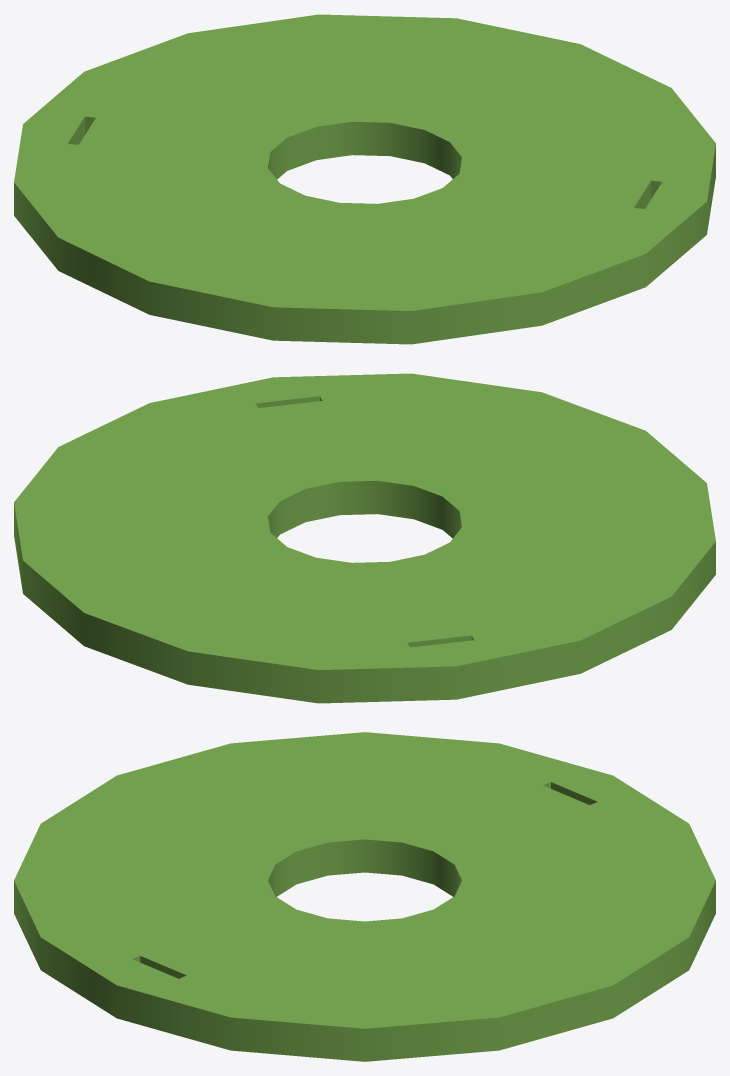
3 views of the same model, one above another, from view 1: azimuth 30°, elevation 25°; view 2: azimuth 150°, elevation 25°; view 3: azimuth 270°, elevation 25° (orthographic).
Parts seen in each view (by area): view 1: mesh3191, mesh3201, mesh3190; view 2: mesh3191, mesh3201, mesh3190; view 3: mesh3191, mesh3201, mesh3190.
Boxes of the visible parts, left/top/right/bottom form: mesh3191: left=14, top=14, right=715, bottom=310; mesh3201: left=14, top=144, right=715, bottom=344; mesh3190: left=268, top=121, right=461, bottom=179; mesh3191: left=14, top=373, right=715, bottom=669; mesh3201: left=14, top=503, right=715, bottom=703; mesh3190: left=268, top=480, right=461, bottom=538; mesh3191: left=14, top=732, right=715, bottom=1028; mesh3201: left=14, top=881, right=715, bottom=1061; mesh3190: left=268, top=839, right=461, bottom=896.
Bounding box in the file's own units: 0.0308 × 0.0016 × 0.0308.
